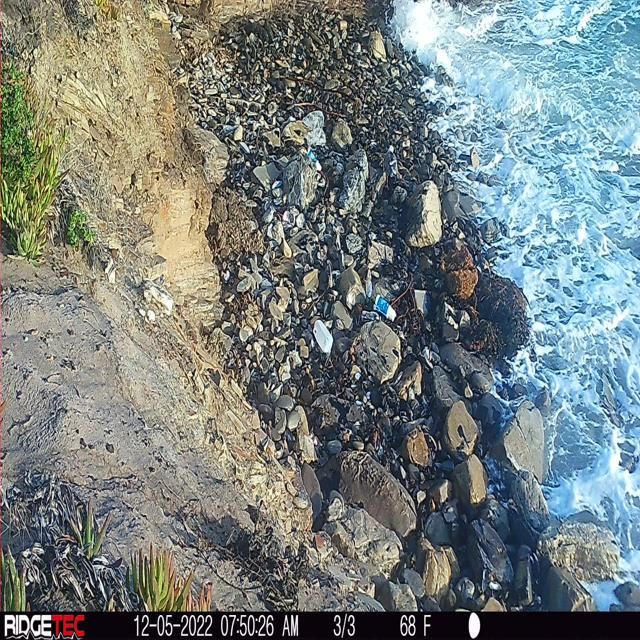bird: (382, 138, 403, 186)
